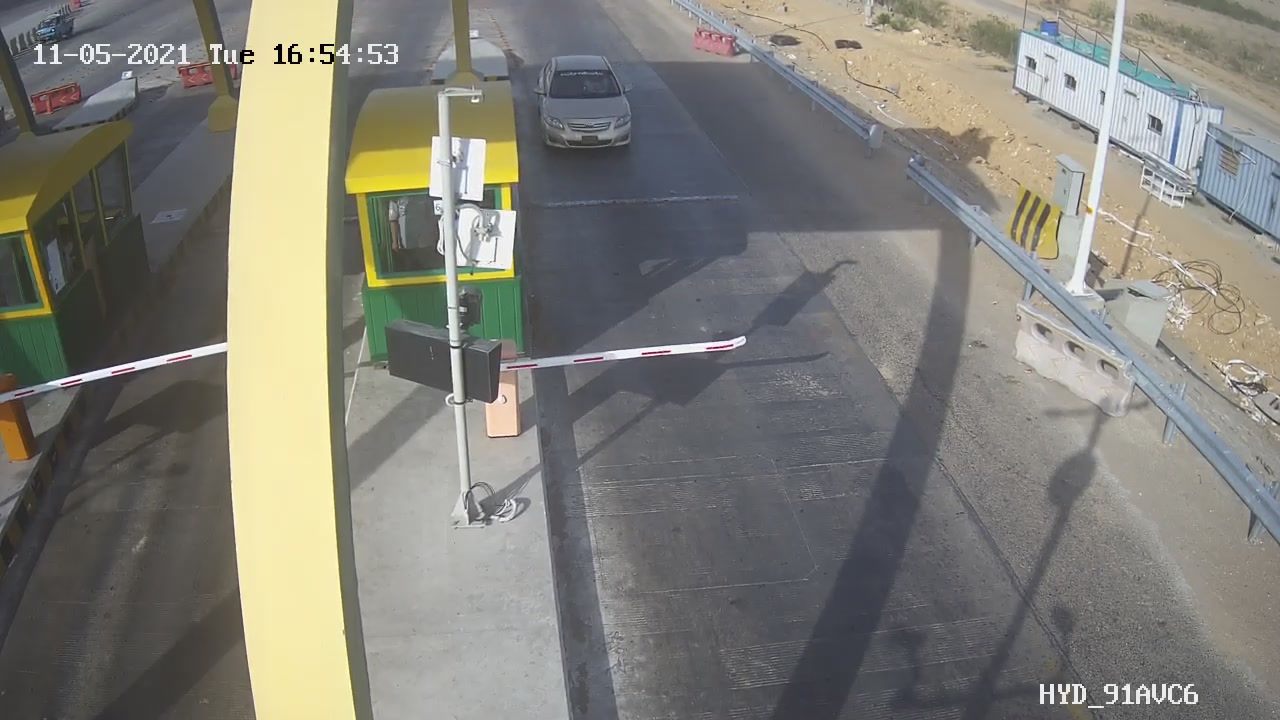F1: (522, 43, 656, 168)
